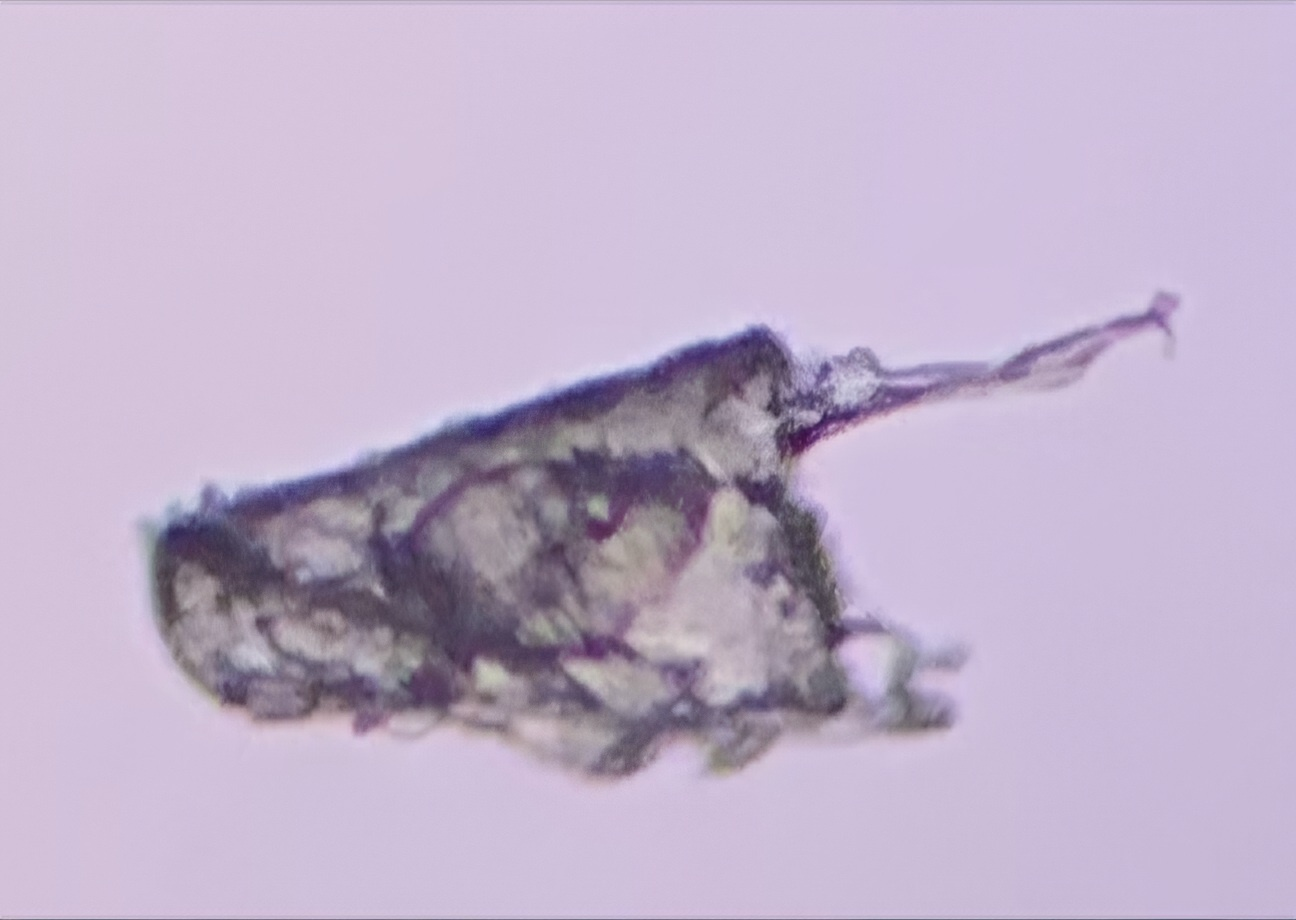microplastic: (130, 288, 1182, 789)
